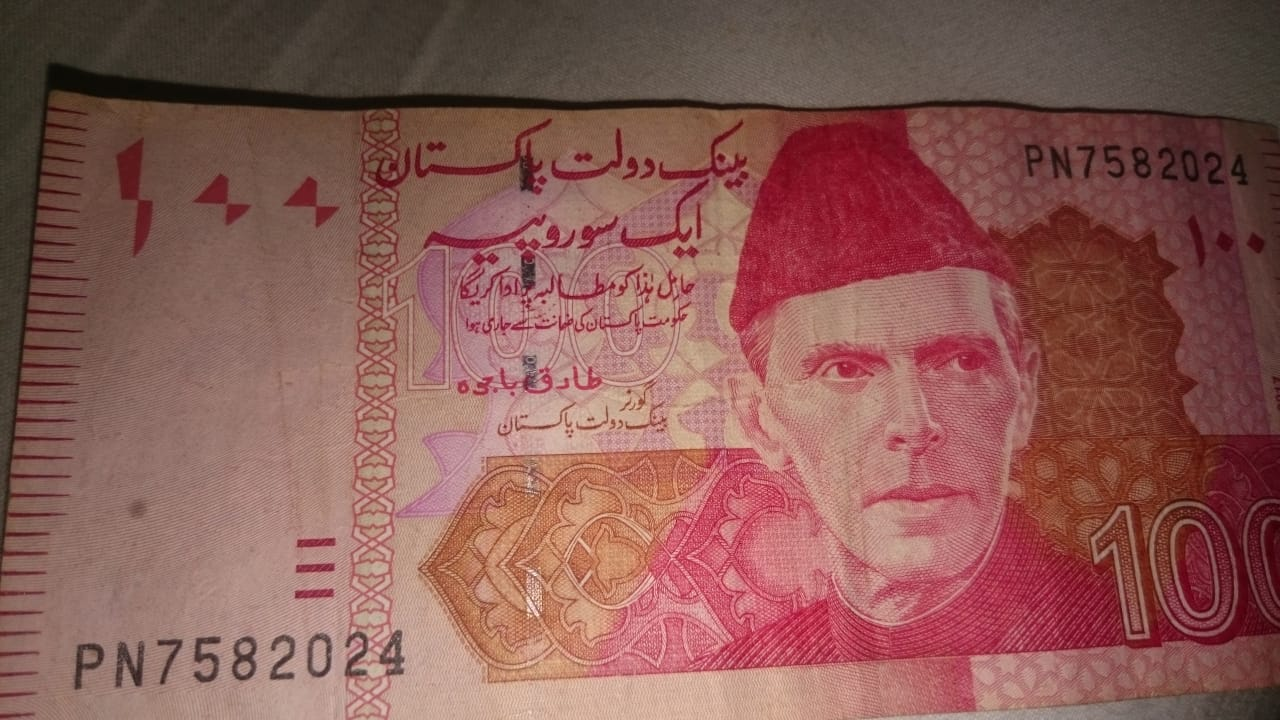100 rupee: (4, 65, 1269, 713)
